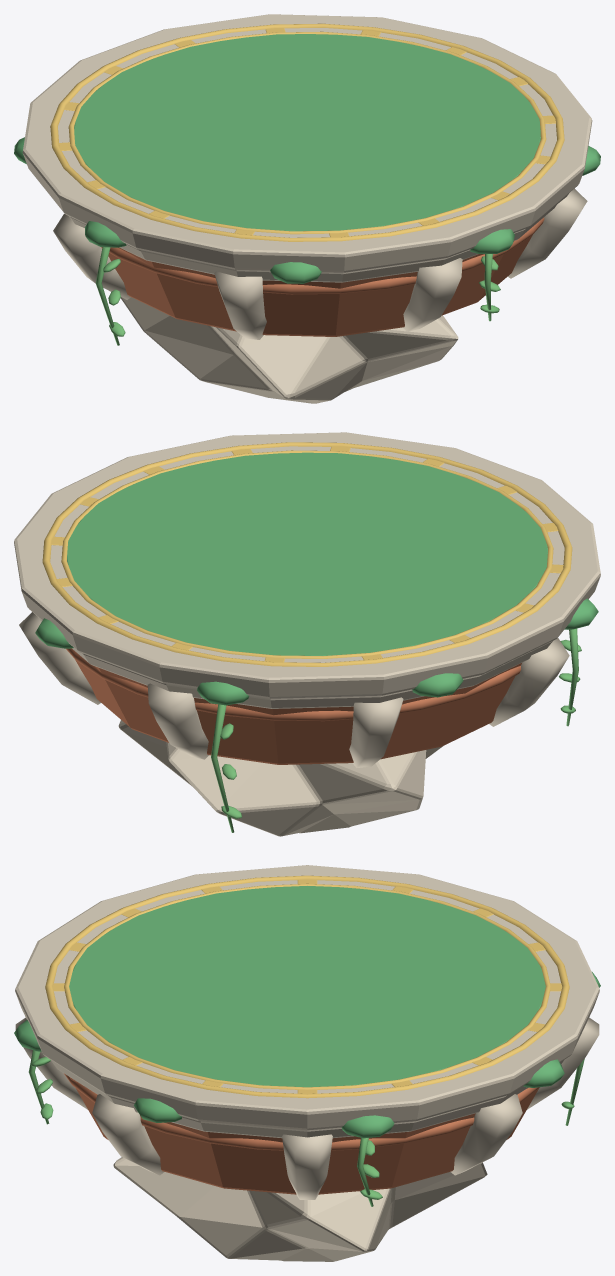
File: terracotta_plinth.glb
3 renders of one model, top to bottom at view 1: azimuth 30°, elevation 25°; view 2: azimuth 150°, elevation 25°; view 3: azimuth 270°, elevation 25°, orthographic. The views are drawn at different scales.
Visible parts, largest first — view 1: MossDeck, ArchCorbel0, TerraBelt, GoldInlayInner, VineLeaf_0_0; view 2: MossDeck, ArchCorbel0, TerraBelt, GoldInlayInner, VineLeaf_0_0; view 3: MossDeck, ArchCorbel0, TerraBelt, GoldInlayInner, VineLeaf_0_0.
Boxes of the visible parts, x1,y1,x2,y2 form: MossDeck: (14, 34, 600, 283); ArchCorbel0: (22, 14, 592, 403); TerraBelt: (101, 217, 544, 336); GoldInlayInner: (50, 23, 564, 241); VineLeaf_0_0: (95, 247, 500, 345); MossDeck: (35, 452, 598, 705); ArchCorbel0: (14, 432, 600, 836); TerraBelt: (66, 648, 521, 764); GoldInlayInner: (42, 442, 572, 666); VineLeaf_0_0: (211, 628, 581, 832); MossDeck: (14, 886, 600, 1138); ArchCorbel0: (15, 865, 599, 1261); TerraBelt: (64, 1073, 539, 1194); GoldInlayInner: (45, 875, 569, 1098); VineLeaf_0_0: (28, 1050, 584, 1206).
Size of the model in its own units: 5.31 by 2.72 by 5.31.
